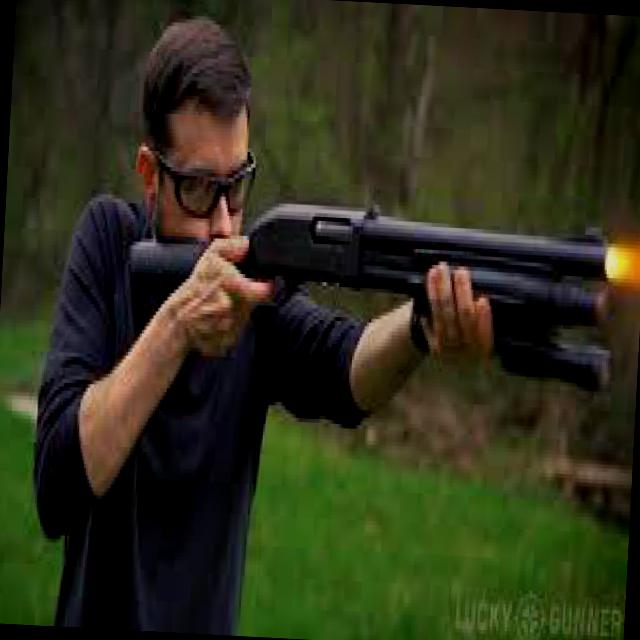long weapon: (122, 195, 631, 401)
